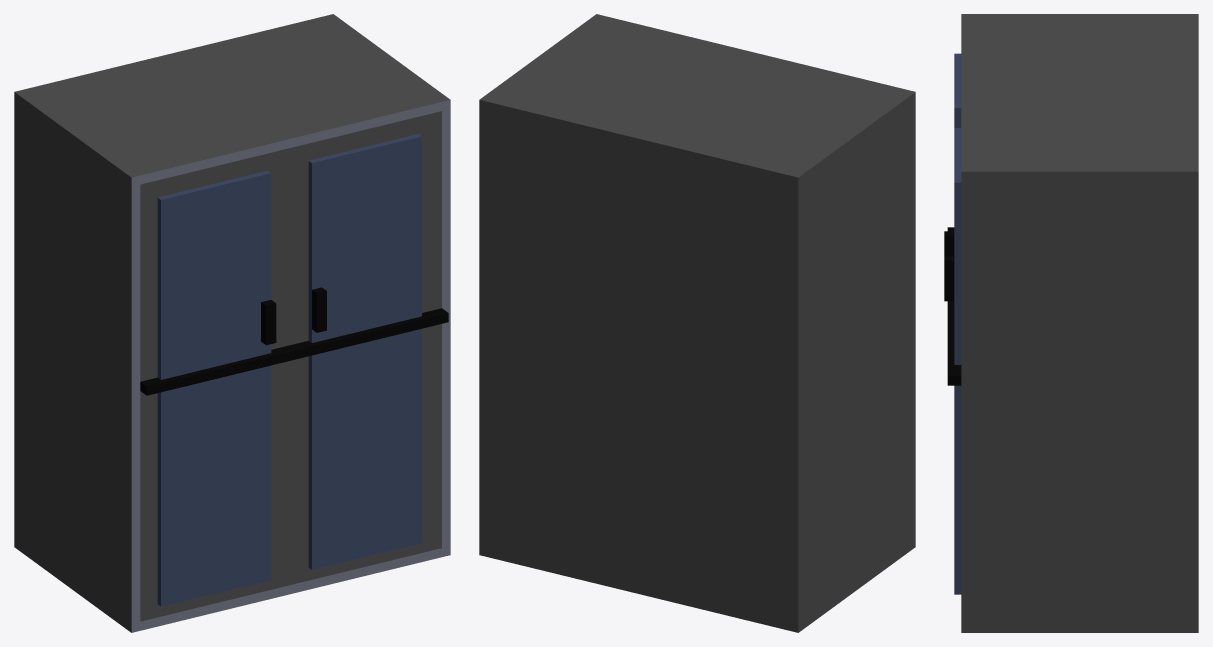
The picture shows the model from 3 angles, left to right: view 1: azimuth 30°, elevation 25°; view 2: azimuth 150°, elevation 25°; view 3: azimuth 270°, elevation 25°; orthographic projection.
Visible parts, largest first — view 1: dead signal box, dead signal box.002, dead signal box.003, dead signal box.012; view 2: dead signal box; view 3: dead signal box, dead signal box.002, dead signal box.003.
Boxes of the visible parts, <box> form: dead signal box: <box>14,14,450,632</box>; dead signal box.002: <box>291,111,448,584</box>; dead signal box.003: <box>140,148,296,621</box>; dead signal box.012: <box>149,350,297,395</box>; dead signal box: <box>479,14,915,632</box>; dead signal box: <box>961,14,1198,632</box>; dead signal box.002: <box>944,128,961,594</box>; dead signal box.003: <box>944,53,961,256</box>.
Size of the model in its own units: 279 by 381 by 191.
